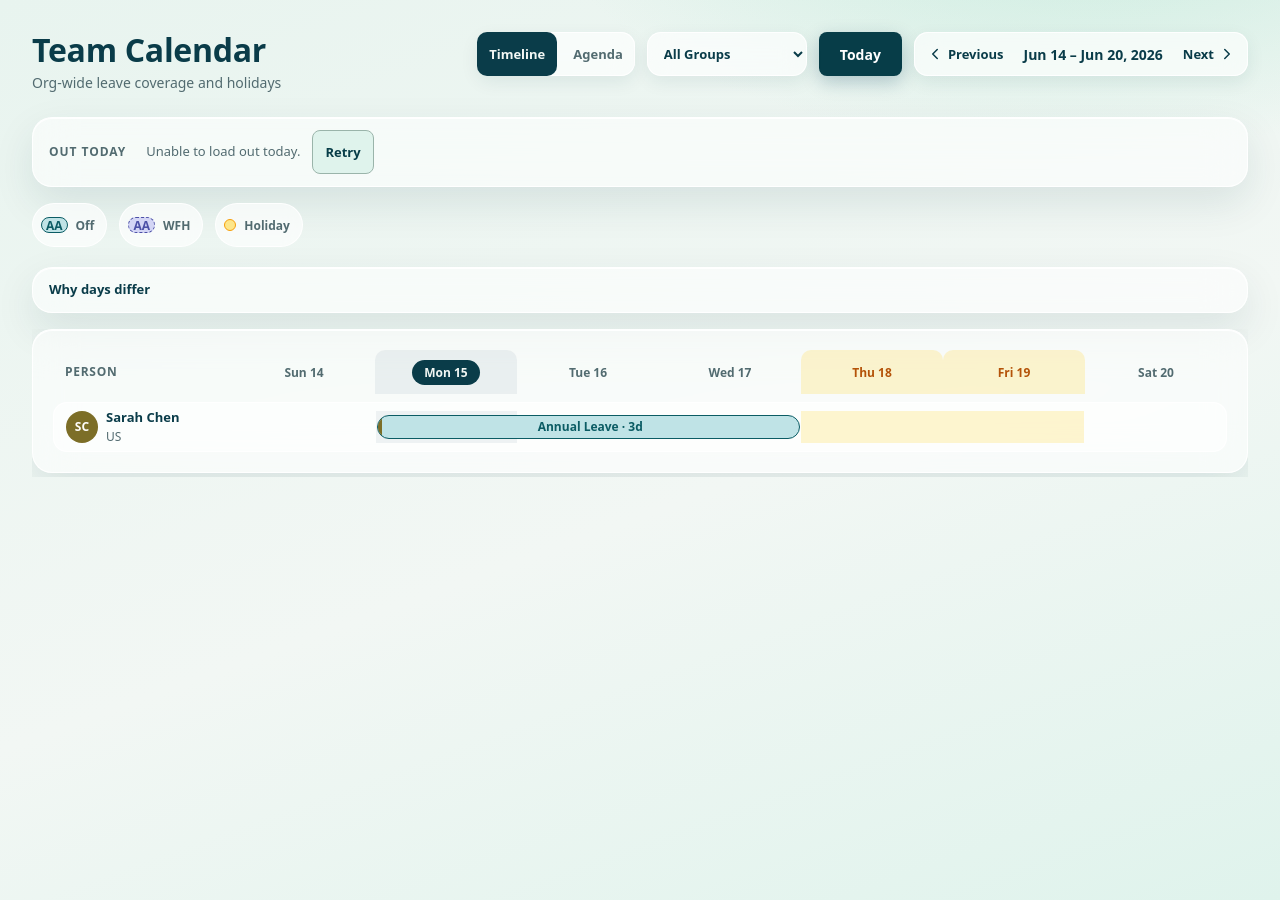
Test: CalendarMobileAgenda ATDD — Story 11.6 › [P0] Given a permitted absence, When the chip is activated, Then navigation opens /leave-requests/:id request context
Expected: the element with test id "calendar-timeline" is shown, [32,329,1248,477]
Click the link with test id "calendar-event-10" at x=588, y=427, box [377,415,800,439]
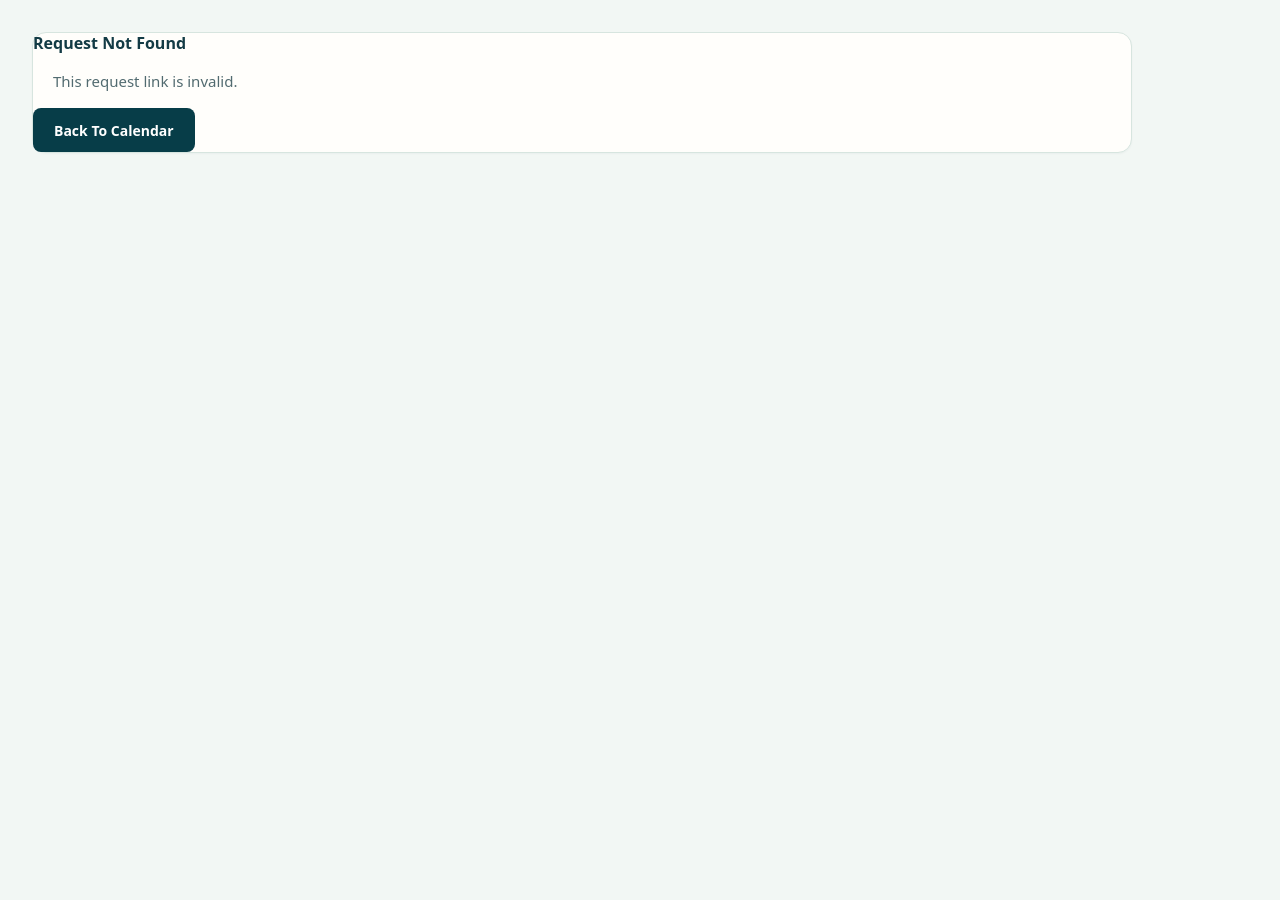
Expected: the heading "Request Not Found" is shown, [33,32,186,54]
